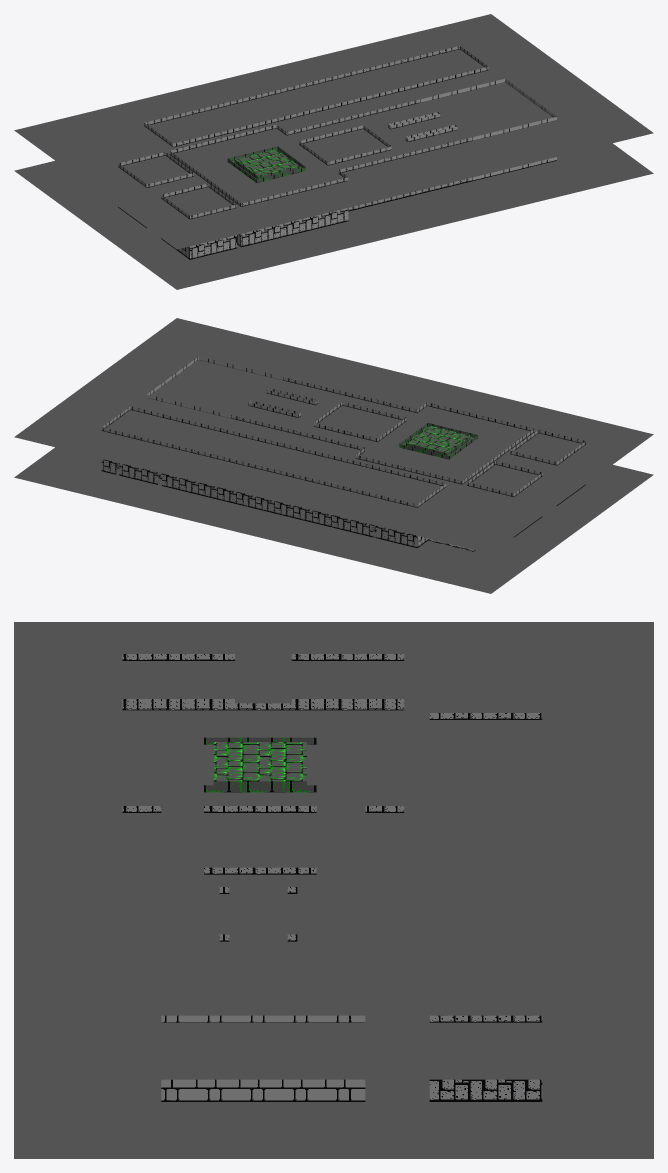
File: map.obj
3 views of the same model, one above another, from view 1: azimuth 30°, elevation 25°; view 2: azimuth 150°, elevation 25°; view 3: azimuth 270°, elevation 25° (orthographic). The views are drawn at different scales.
Visible parts, largest first — view 1: Cube.004, Cube.003, Cube.002; view 2: Cube.004, Cube.003, Cube.002; view 3: Cube.004, Cube.003, Cube.002.
Boxes of the visible parts, x1,y1,x2,y2 form: Cube.004: (14, 14, 653, 249); Cube.003: (14, 143, 653, 289); Cube.002: (118, 46, 556, 259); Cube.004: (14, 318, 653, 553); Cube.003: (14, 447, 653, 593); Cube.002: (101, 356, 585, 551); Cube.004: (14, 622, 653, 1079); Cube.003: (14, 1079, 653, 1158); Cube.002: (122, 654, 542, 1101).
Size of the model in its own units: 55.67 by 4.9 by 32.91.
7 materials, 7 textured.
